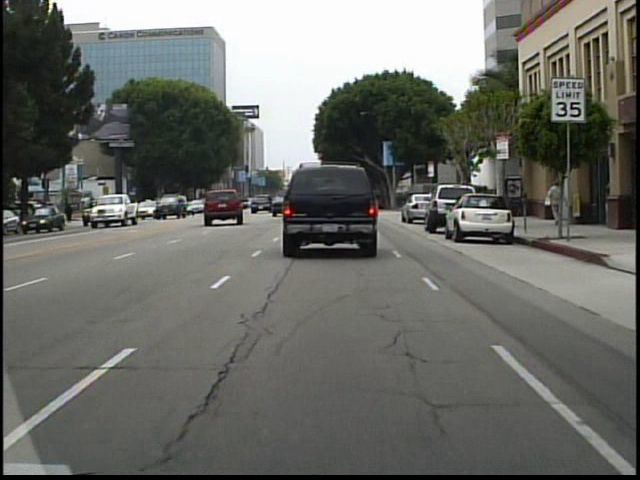person: (544, 176, 565, 232), (461, 180, 478, 219), (65, 199, 78, 226)
